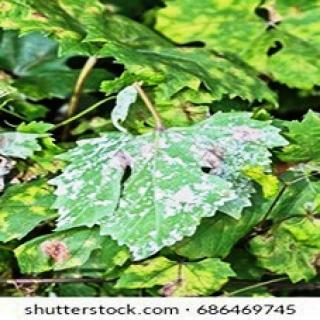grey mildew: (52, 127, 276, 257)
